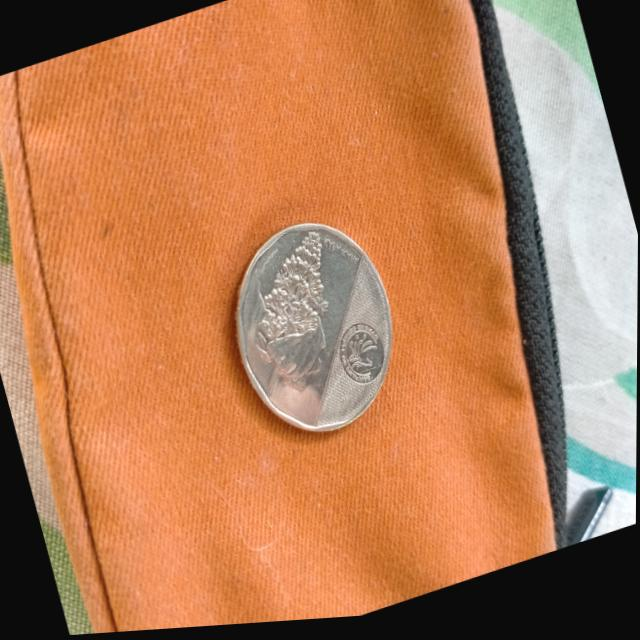10_New_Back: (219, 227, 365, 412)
